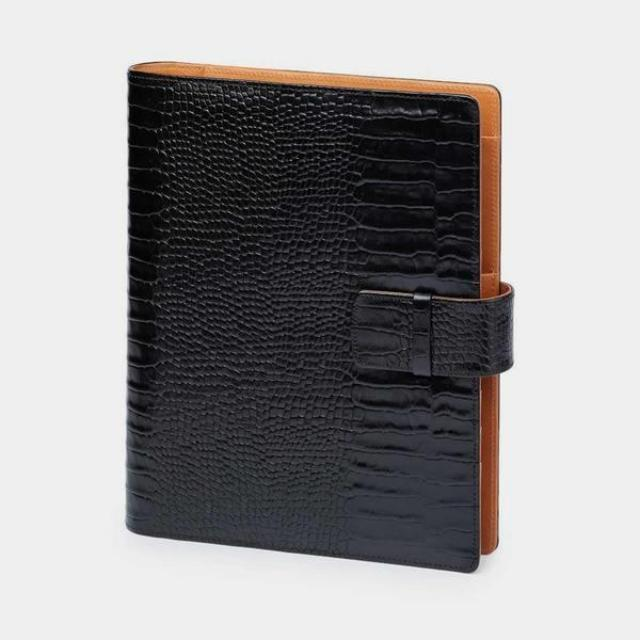wallet: (117, 49, 521, 578)
